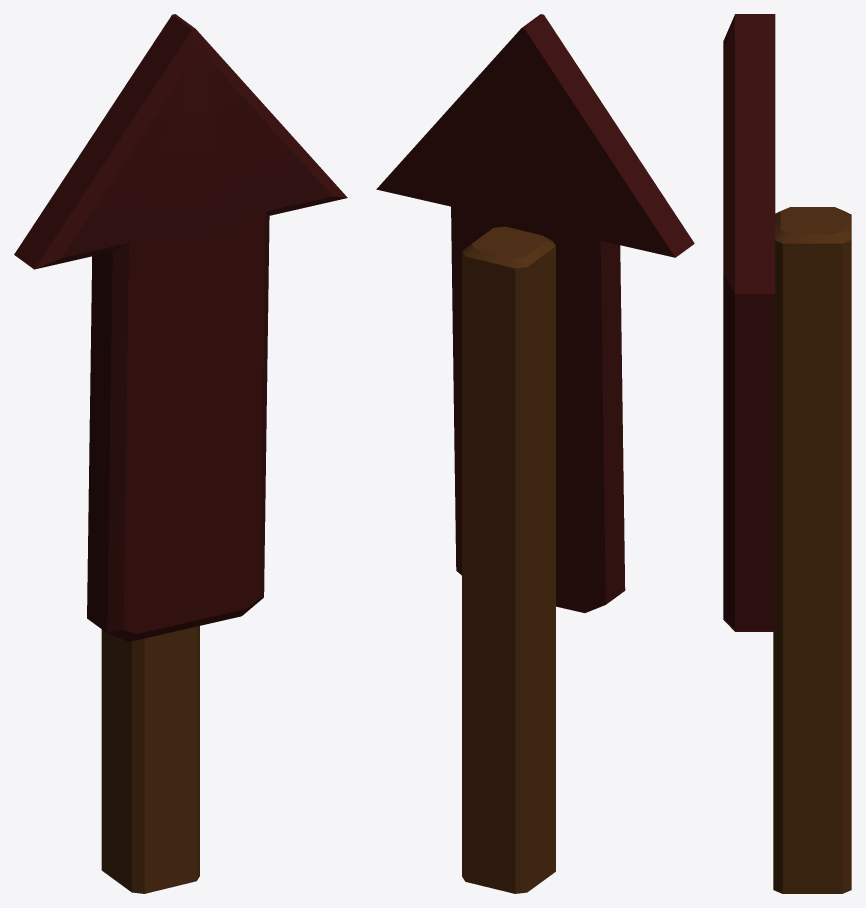
The model's file is Arrow_Up.obj.
The picture shows the model from 3 angles, left to right: view 1: azimuth 30°, elevation 25°; view 2: azimuth 150°, elevation 25°; view 3: azimuth 270°, elevation 25°; orthographic projection. The views are drawn at different scales.
Parts seen in each view (by area): view 1: Arrow_Up_Cube.247; view 2: Arrow_Up_Cube.247; view 3: Arrow_Up_Cube.247.
Boxes of the visible parts, x1,y1,x2,y2 form: Arrow_Up_Cube.247: (14,14,347,893); Arrow_Up_Cube.247: (376,14,694,893); Arrow_Up_Cube.247: (723,14,851,893).
Bounding box in the file's own units: 1.02 × 2.7 × 0.3632.
